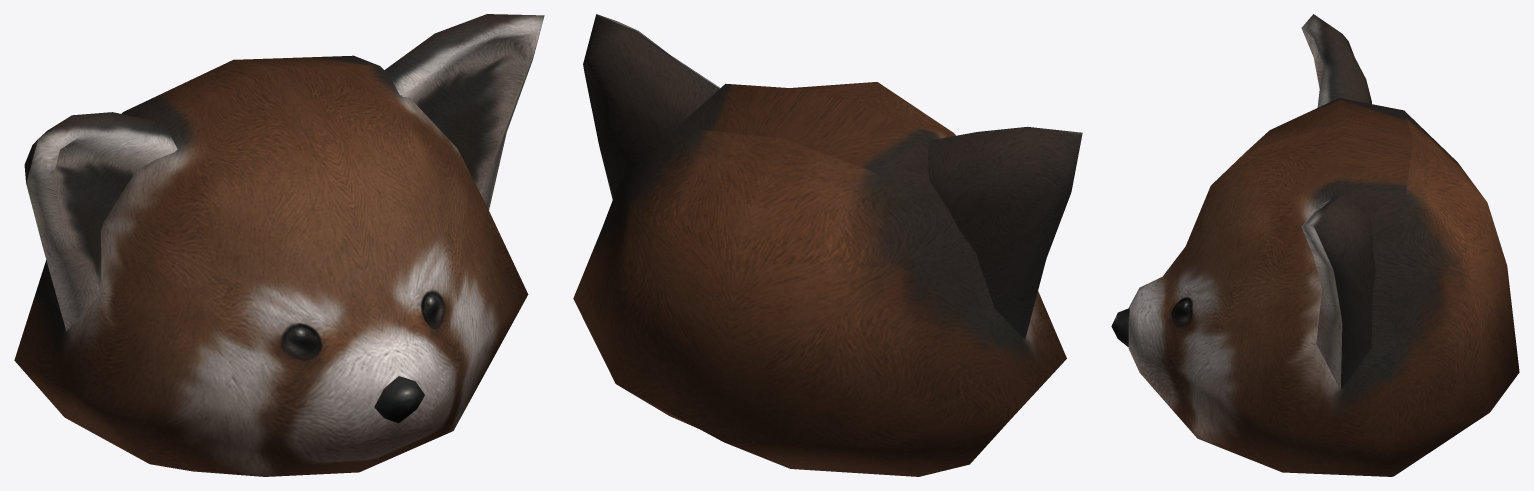
File: CRT0110018.FBX
The picture shows the model from 3 angles, left to right: view 1: azimuth 30°, elevation 25°; view 2: azimuth 150°, elevation 25°; view 3: azimuth 270°, elevation 25°; orthographic projection. The views are drawn at different scales.
Visible parts, largest first — view 1: smCRT0110018; view 2: smCRT0110018; view 3: smCRT0110018.
Boxes of the visible parts, x1,y1,x2,y2 form: smCRT0110018: (14, 14, 544, 476); smCRT0110018: (573, 14, 1082, 476); smCRT0110018: (1111, 14, 1519, 476).
Size of the model in its own units: 0.1869 by 0.1333 by 0.1526.
Materials: 1 (1 with a texture image).
